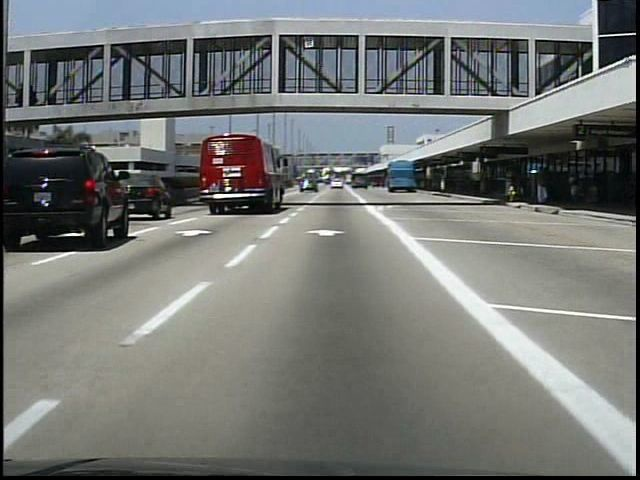person: (566, 169, 585, 210), (471, 171, 482, 194)
